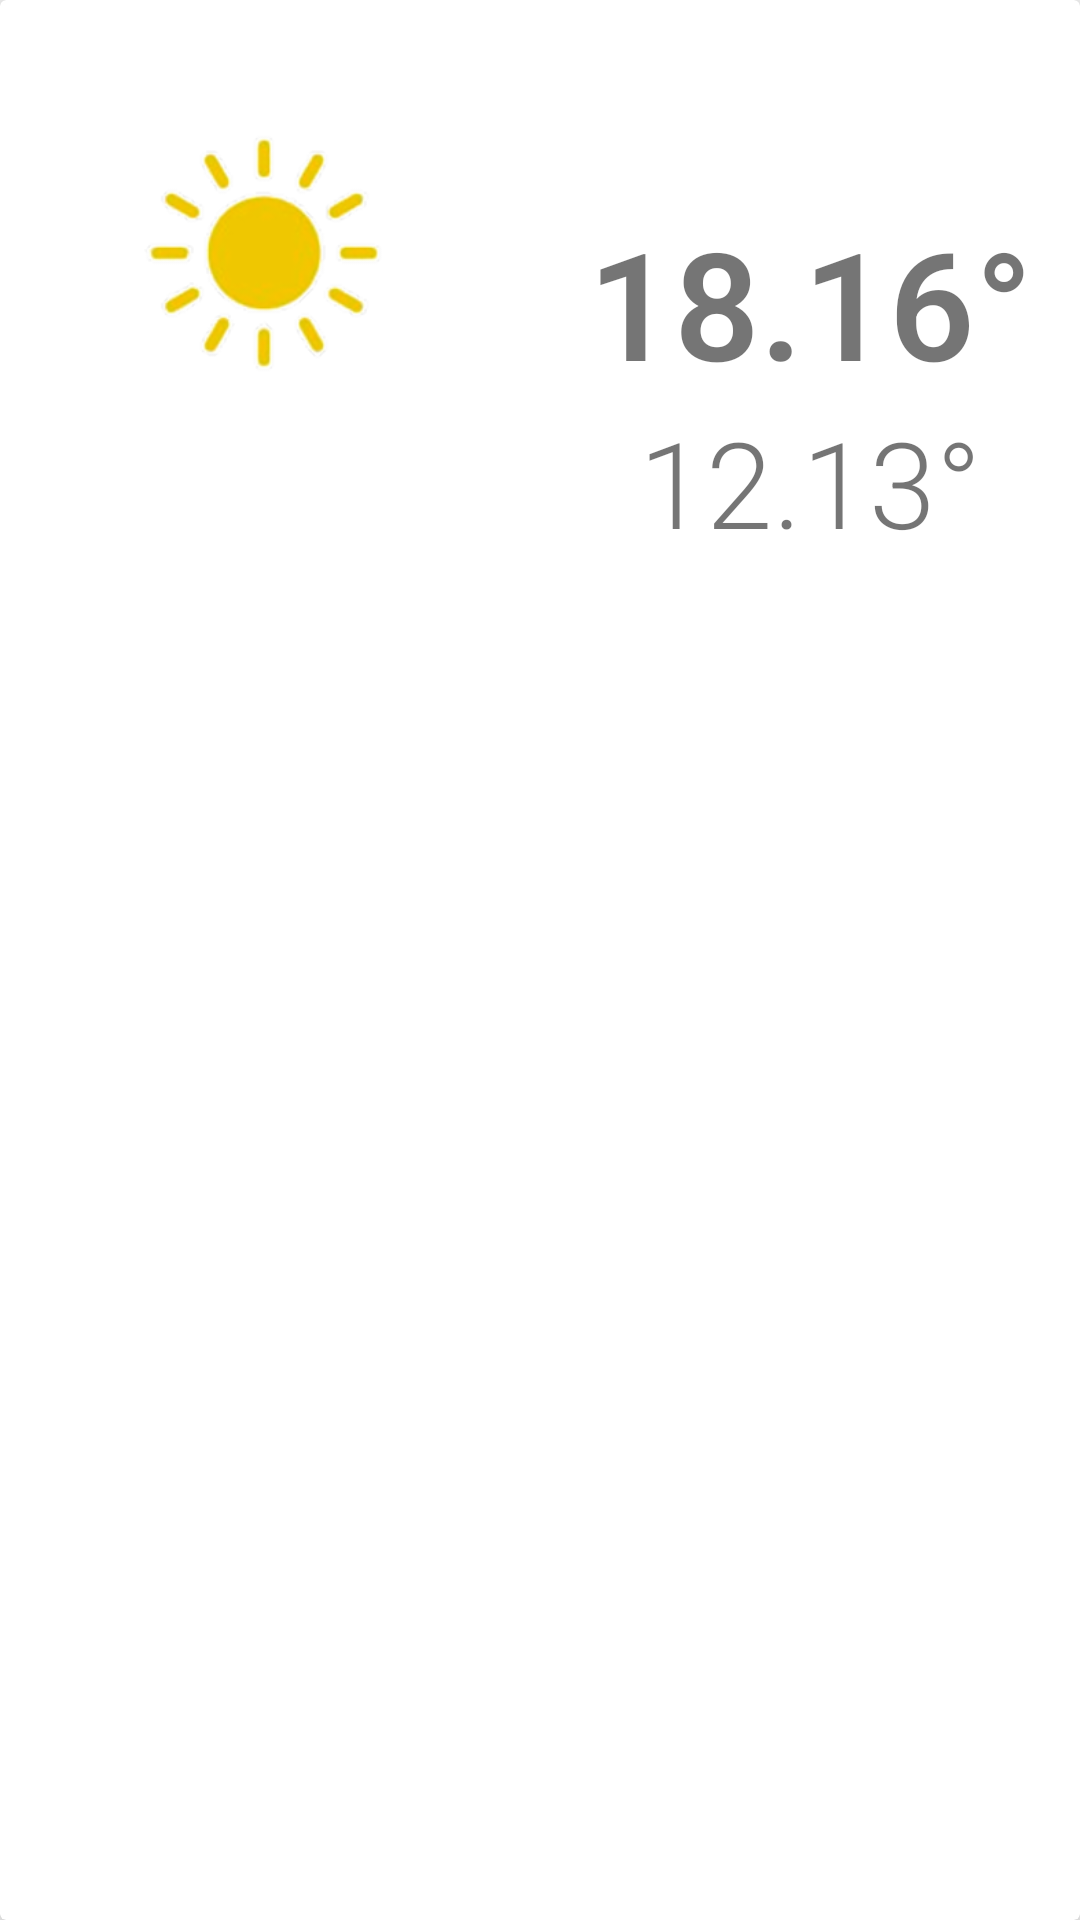

Named icons in this screenshot (1080×1920) and their centers, [x,y]:
sunny: [263,253]
